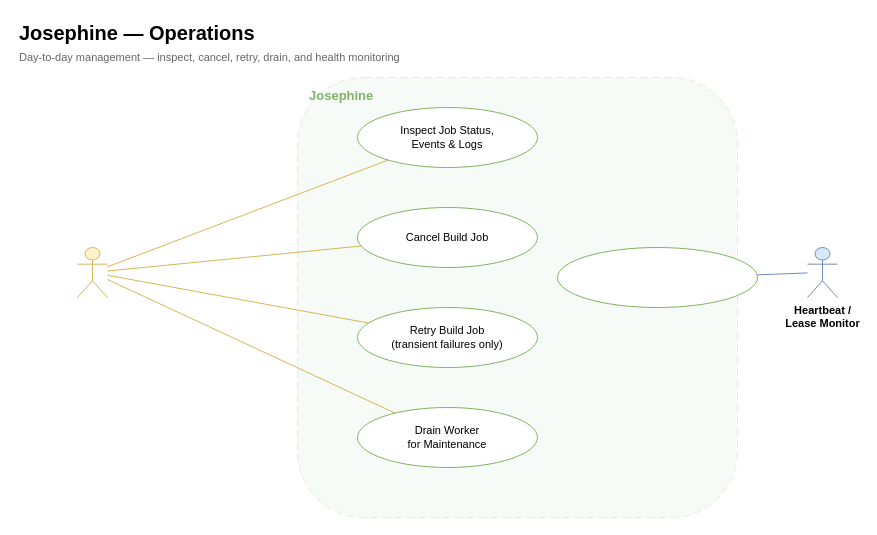
This 877x535 diagram has some shape labels left out. Each missing label, with the centre of its shape:
Detect Stuck Workers (heartbeat / lease expiry): pixel 657 277
Engineer / Operator: pixel 92 272
